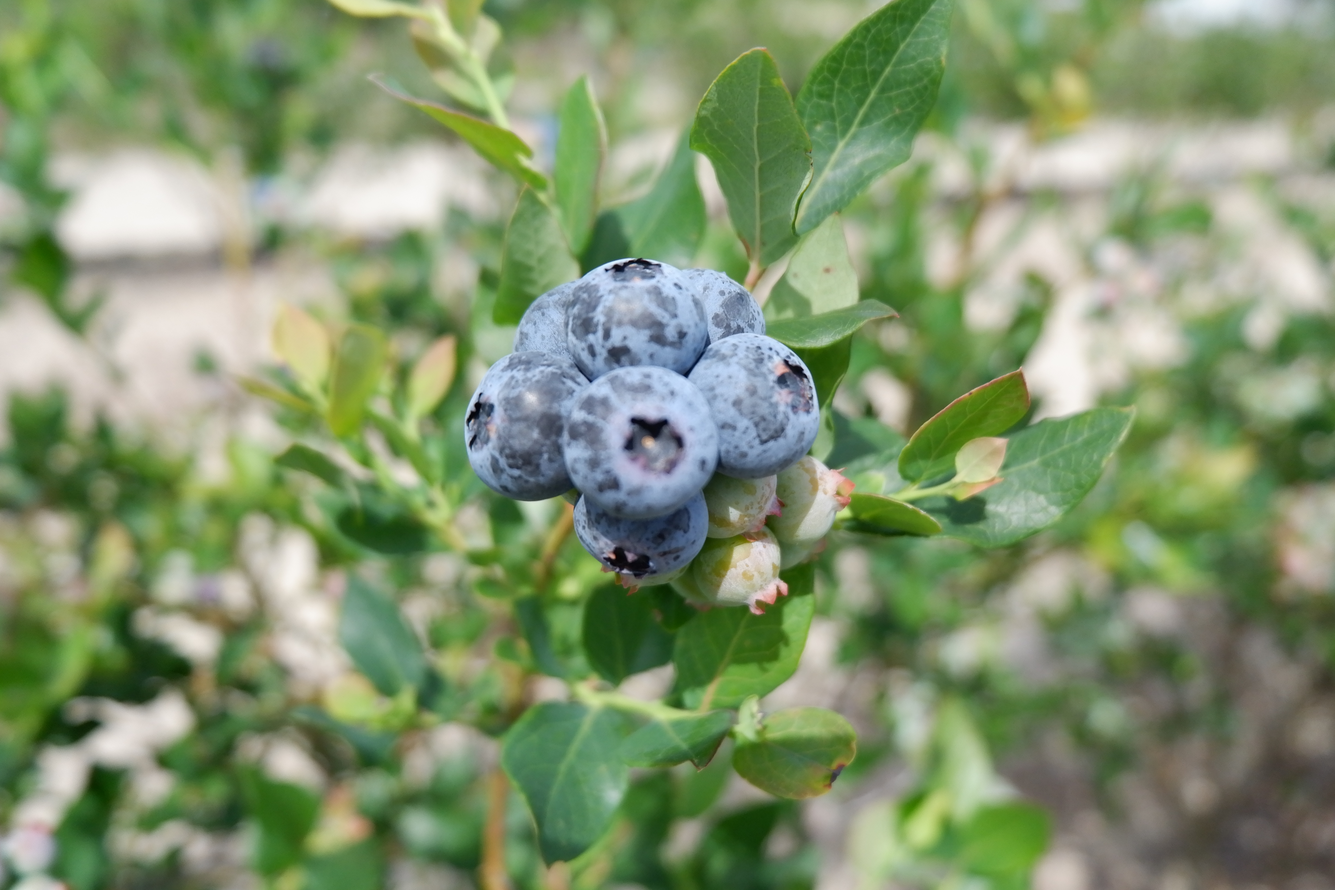Immature: (690, 531, 783, 610), (768, 458, 853, 543), (703, 470, 774, 534), (671, 566, 718, 610), (780, 540, 822, 569), (615, 574, 676, 589)
Mature: (564, 371, 716, 515), (694, 335, 817, 477), (559, 259, 701, 378), (467, 356, 584, 498), (576, 495, 707, 578), (679, 269, 762, 355), (517, 290, 579, 368)
